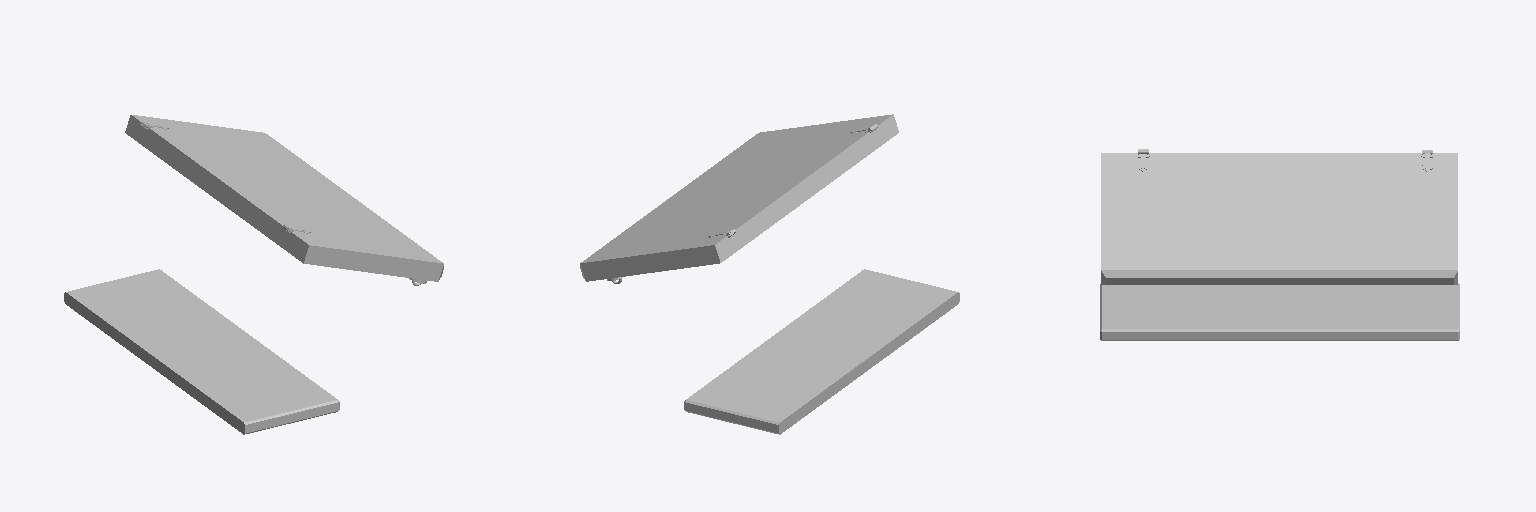
File: counterLP.obj
The picture shows the model from 3 angles: view 1: azimuth 30°, elevation 25°; view 2: azimuth 150°, elevation 25°; view 3: azimuth 270°, elevation 25°; orthographic projection.
Visible parts, largest first — view 1: pCube5, counter; view 2: pCube5, counter; view 3: pCube5, counter.
Boxes of the visible parts, box(x1,y1,x2,y2) form: pCube5: box(125, 115, 443, 281); counter: box(64, 269, 339, 434); pCube5: box(580, 114, 898, 281); counter: box(684, 269, 959, 434); pCube5: box(1101, 153, 1457, 284); counter: box(1100, 283, 1459, 340).
Bounding box in the file's own units: 3.78 × 3.17 × 5.83.